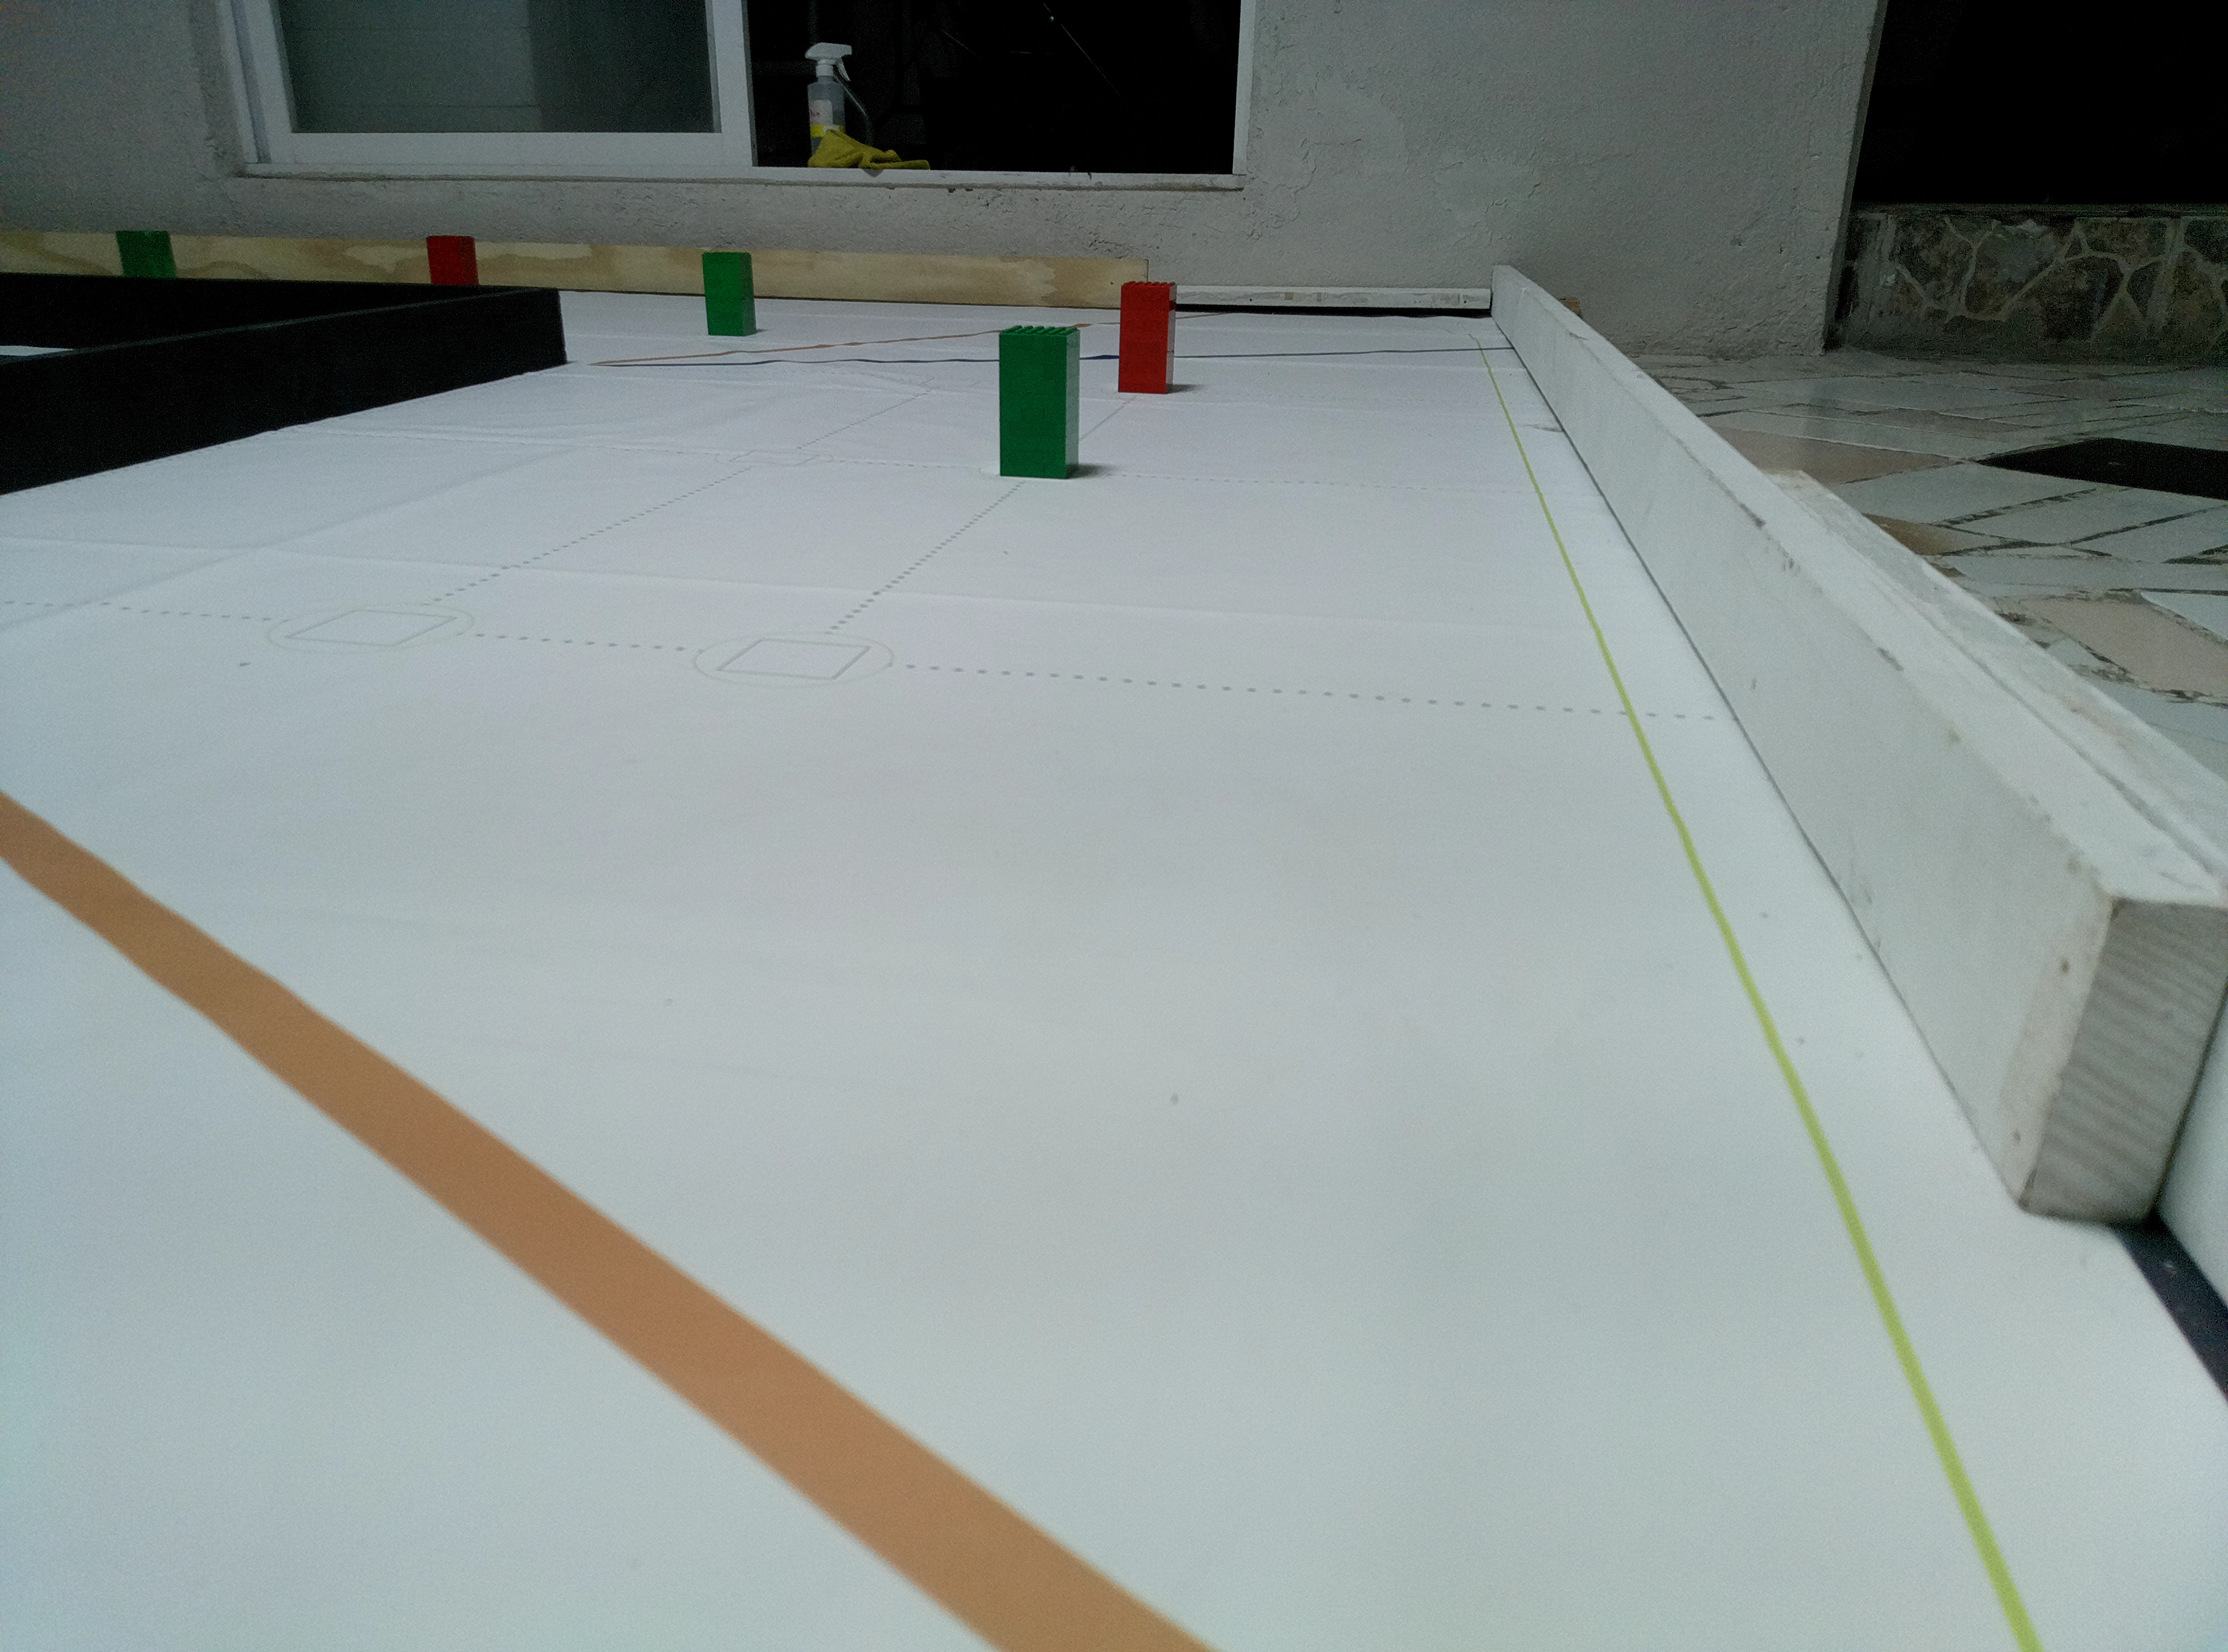greenbox: (998, 323, 1083, 479), (701, 248, 758, 338), (111, 229, 186, 278)
redbox: (1116, 281, 1176, 396), (423, 234, 481, 286)
